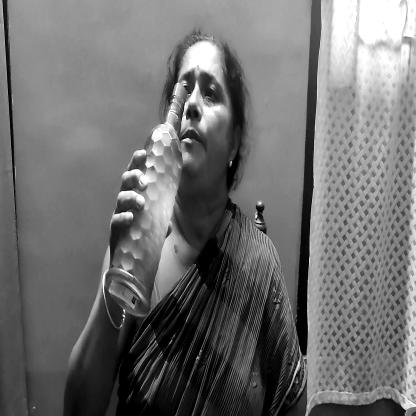Distracted: (179, 37, 238, 186)
